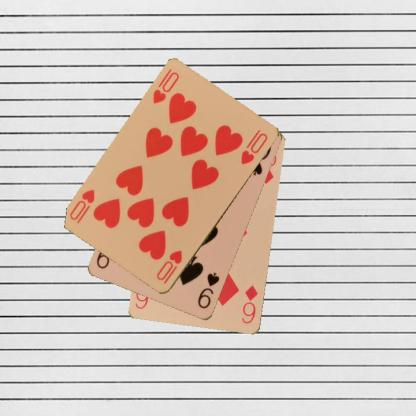10h: (150, 69, 181, 106), (154, 248, 184, 286)
6d: (240, 282, 260, 326)
9s: (195, 270, 221, 310)
